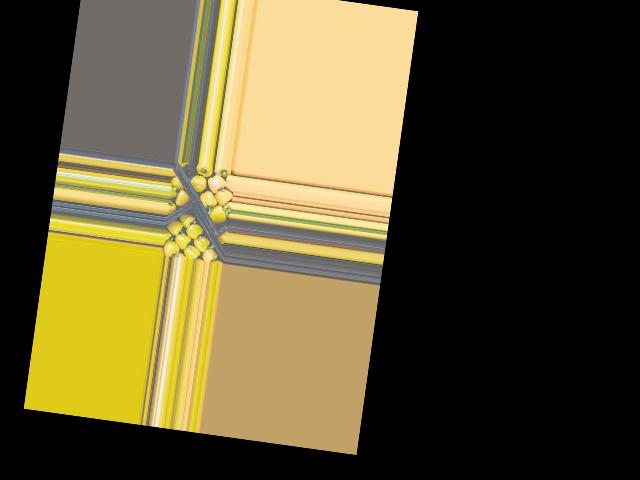bell_pepper: (160, 236, 178, 257)
